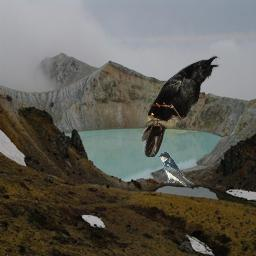Crow: (140, 54, 221, 157)
Swallow: (158, 152, 195, 188)
